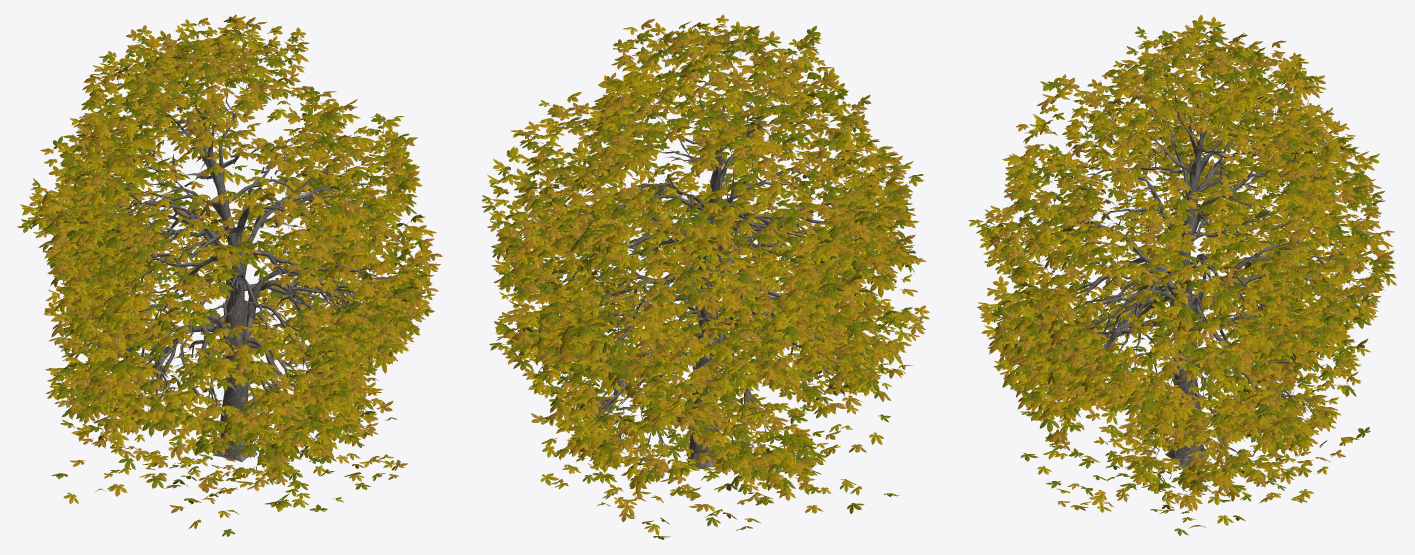
File: aesculus-carnea-ld-s23-proof.glb
3 views of the same model, side by side, from view 1: azimuth 30°, elevation 25°; view 2: azimuth 150°, elevation 25°; view 3: azimuth 270°, elevation 25° (orthographic). The views are drawn at different scales.
Parts seen in each view (by area): view 1: ForestPlantCatalog_aesculus-carnea-ld-s23; view 2: ForestPlantCatalog_aesculus-carnea-ld-s23; view 3: ForestPlantCatalog_aesculus-carnea-ld-s23.
Part boxes in pixels (x1,y1,x2,y2): ForestPlantCatalog_aesculus-carnea-ld-s23: (17, 14, 442, 536); ForestPlantCatalog_aesculus-carnea-ld-s23: (481, 14, 929, 539); ForestPlantCatalog_aesculus-carnea-ld-s23: (968, 14, 1396, 536).
Bounding box in the file's own units: 11.66 × 12.5 × 11.64.
12 materials, 12 textured.
